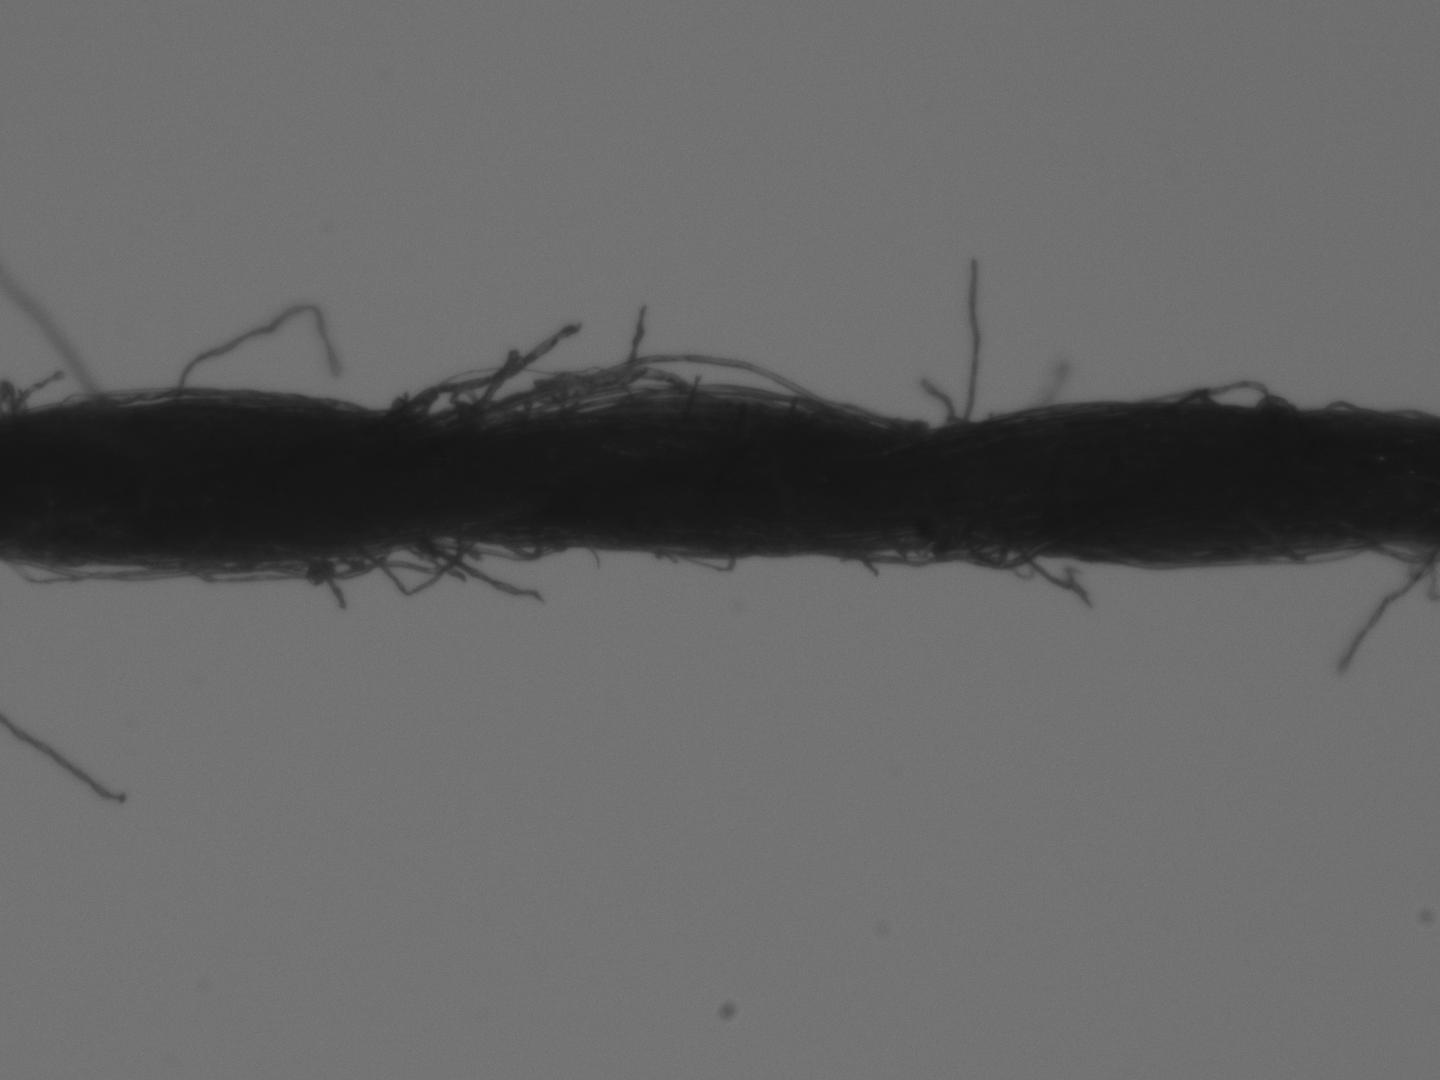loop_fiber: (533, 353, 815, 413), (433, 370, 714, 430), (359, 533, 475, 601), (837, 537, 949, 572), (950, 534, 1045, 565), (1195, 378, 1270, 406), (1164, 386, 1219, 406)
protruding_fiber: (171, 297, 345, 398), (1332, 558, 1424, 681), (416, 537, 547, 609), (960, 260, 982, 425)
